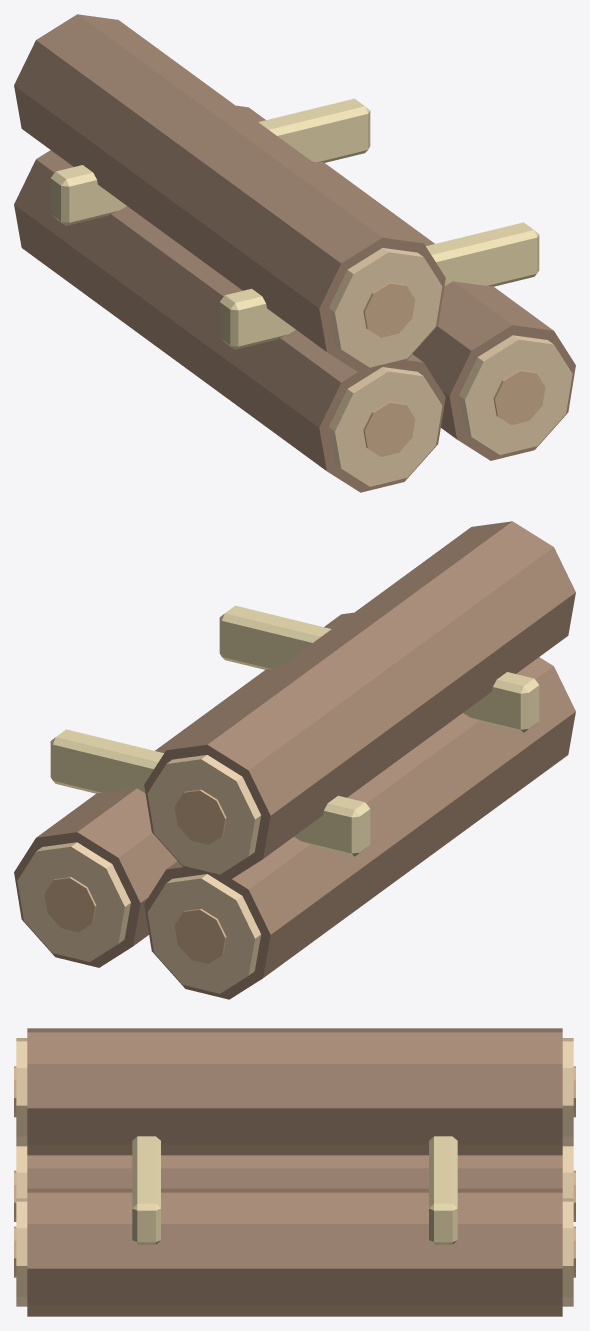
File: cargo_logs.fbx
3 renders of one model, top to bottom at view 1: azimuth 30°, elevation 25°; view 2: azimuth 150°, elevation 25°; view 3: azimuth 270°, elevation 25°, orthographic. The views are drawn at different scales.
Parts seen in each view (by area): view 1: cargo_logs_mesh; view 2: cargo_logs_mesh; view 3: cargo_logs_mesh.
Part boxes in pixels (x1,y1,x2,y2): cargo_logs_mesh: (14,14,575,492); cargo_logs_mesh: (14,521,575,999); cargo_logs_mesh: (14,1028,575,1316).
Bounding box in the file's own units: 0.38 × 0.2932 × 0.682.
